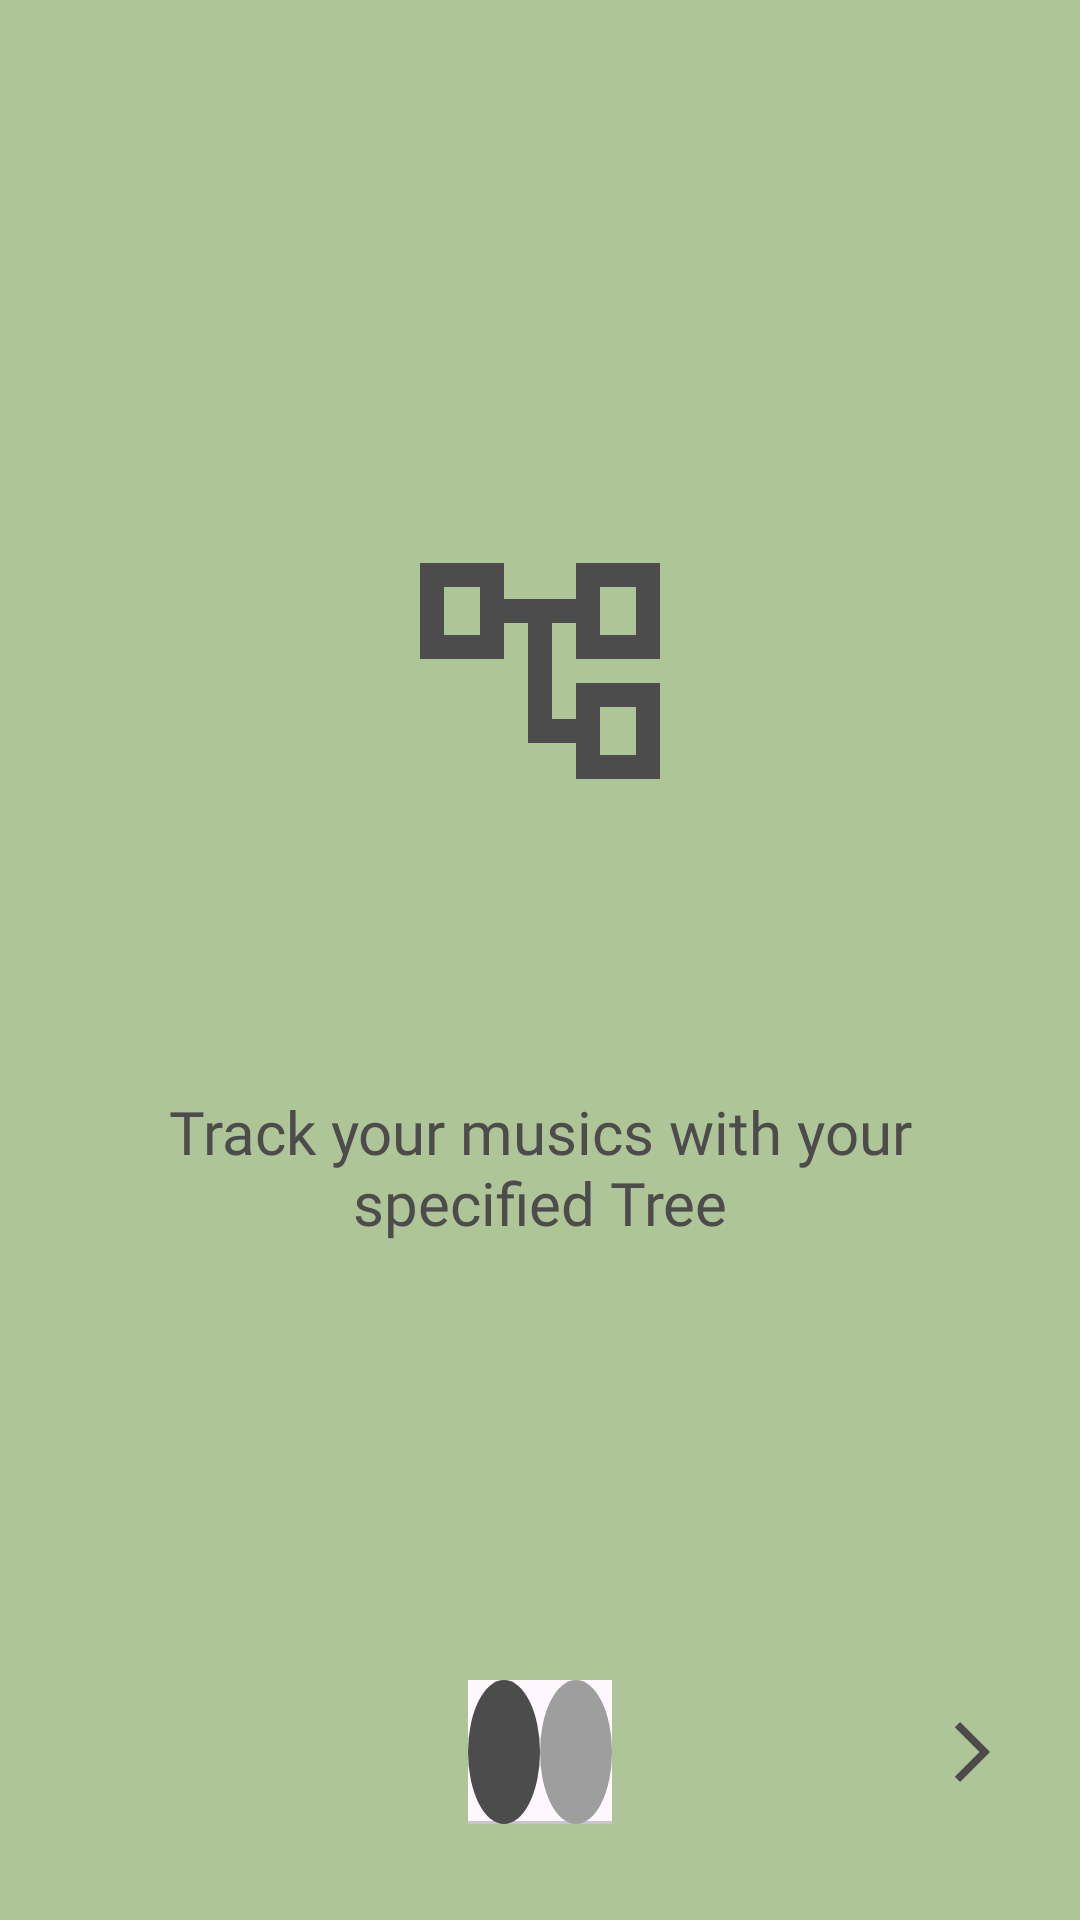

Icon bounding boxes for this 1080px×1920px phone screenshot, format (left=x1, top=y1, right=x2, bottom=y2):
forward arrow: (left=955, top=1722, right=990, bottom=1782)
tree icon: (left=420, top=563, right=660, bottom=779)
